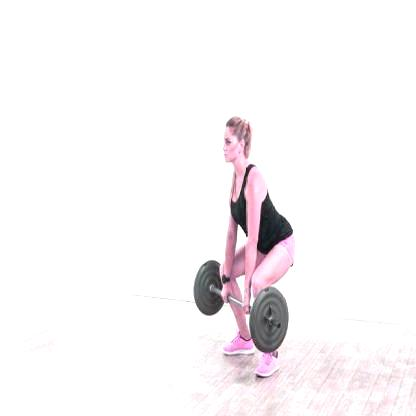Barbell: (275, 321, 281, 334)
